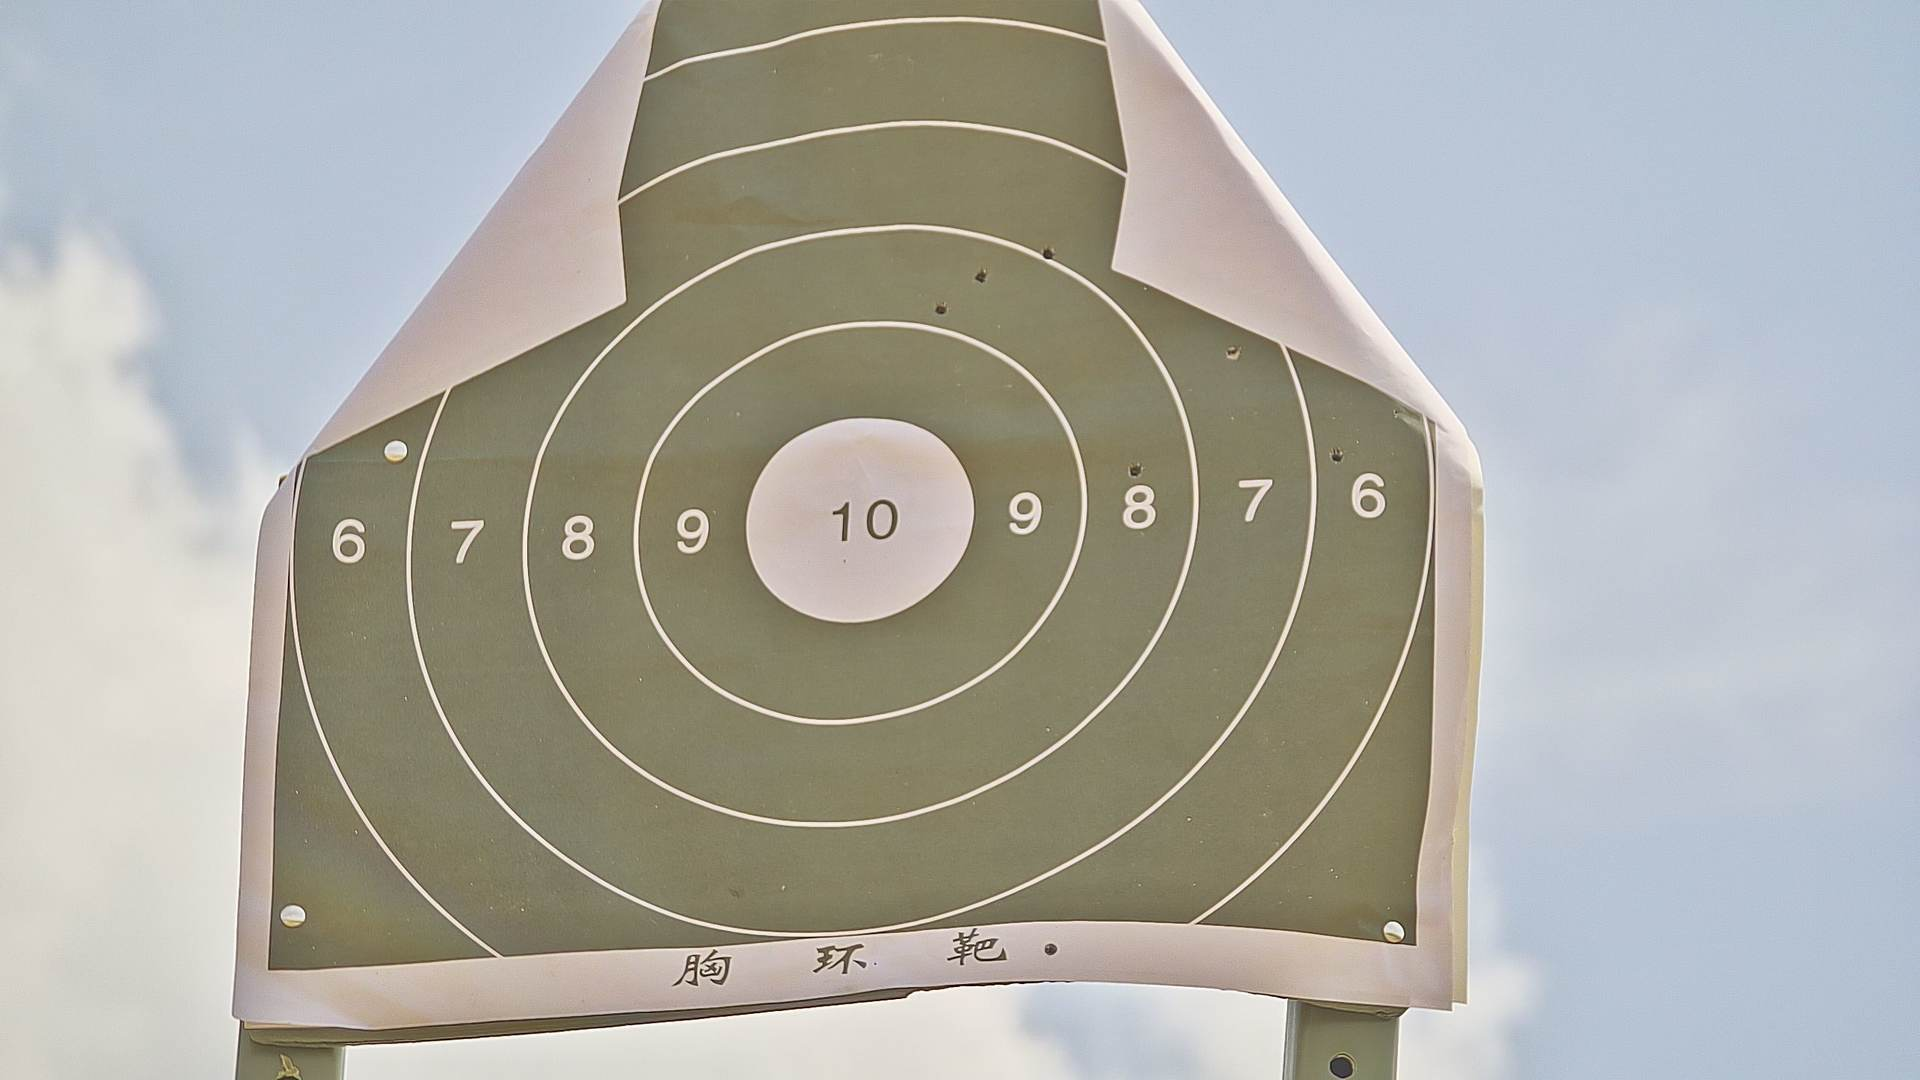hole: (1328, 448, 1345, 465), (1127, 462, 1143, 477), (1225, 344, 1240, 361), (1043, 942, 1059, 956), (975, 268, 988, 284), (935, 303, 948, 313), (1043, 247, 1054, 256)
kernel: (855, 520, 861, 527)
target: (265, 5, 1423, 949)
ten: (742, 415, 978, 624)
